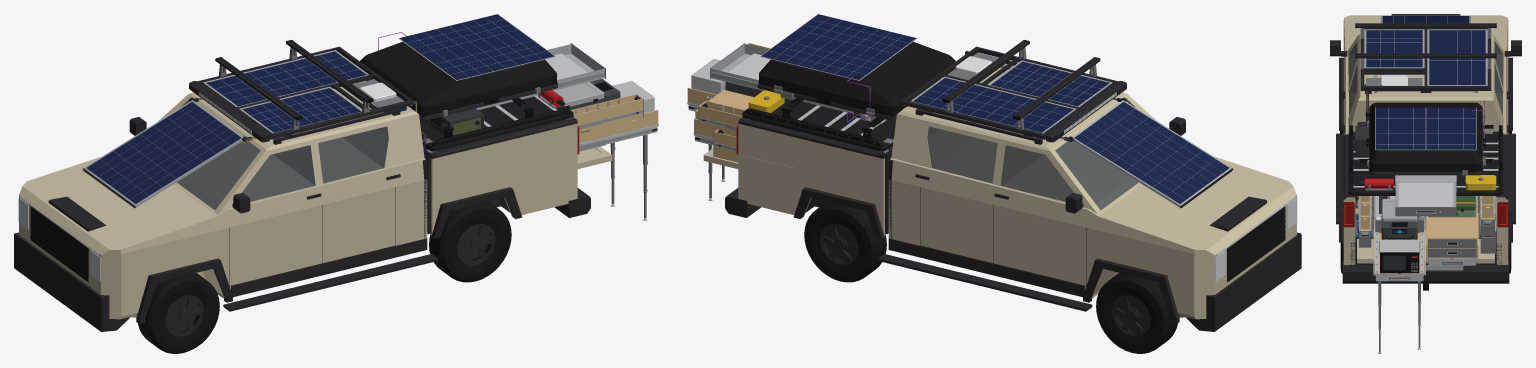
Rendered from fitout_camp.glb.
The picture shows the model from 3 angles, left to right: view 1: azimuth 30°, elevation 25°; view 2: azimuth 150°, elevation 25°; view 3: azimuth 270°, elevation 25°; orthographic projection. The views are drawn at different scales.
Visible parts, largest first — view 1: vehicle__cab_body, vehicle__cab_body_trim, vehicle__tub_skin_passenger, vehicle__cab_glass, solar__visor_panel, tent__tent_shell, vehicle__wheel_430_-1, vehicle__wheel_-2840_-1, solar__roof_solar_190w, solar__tent_solar_1, solar__tent_solar_2, solar__roof_solar_130w (+23 smaller); view 2: vehicle__cab_body, vehicle__cab_body_trim, vehicle__tub_skin_driver, vehicle__cab_glass, solar__visor_panel, tent__tent_shell, vehicle__wheel_430_1, vehicle__wheel_-2840_1, solar__roof_solar_190w, solar__tent_solar_1, solar__tent_solar_2, lid__load_lid (+23 smaller); view 3: vehicle__cab_body, tent__tent_shell, vehicle__cab_body_trim, solar__roof_solar_190w, vehicle__rear_bumper, solar__tent_solar_1, solar__tent_solar_2, lid__load_lid, solar__roof_solar_130w, lid_cargo__uts_table_folded, payload__drawer_module, vehicle__cab_glass (+54 smaller).
Boxes of the visible parts, x1=… form: vehicle__cab_body: x1=19, y1=81, x2=427, y2=319; vehicle__cab_body_trim: x1=14, y1=117, x2=522, y2=331; vehicle__tub_skin_passenger: x1=431, y1=123, x2=577, y2=235; vehicle__cab_glass: x1=177, y1=99, x2=388, y2=209; solar__visor_panel: x1=86, y1=102, x2=241, y2=203; tent__tent_shell: x1=360, y1=41, x2=556, y2=117; vehicle__wheel_430_-1: x1=429, y1=201, x2=511, y2=282; vehicle__wheel_-2840_-1: x1=138, y1=273, x2=219, y2=353; solar__roof_solar_190w: x1=206, y1=51, x2=366, y2=106; solar__tent_solar_1: x1=428, y1=35, x2=554, y2=79; solar__tent_solar_2: x1=400, y1=14, x2=525, y2=58; solar__roof_solar_130w: x1=242, y1=88, x2=360, y2=132; vehicle__cab_body: x1=888, y1=63, x2=1296, y2=319; vehicle__cab_body_trim: x1=793, y1=117, x2=1301, y2=331; vehicle__tub_skin_driver: x1=738, y1=123, x2=884, y2=235; vehicle__cab_glass: x1=927, y1=100, x2=1138, y2=209; solar__visor_panel: x1=1074, y1=102, x2=1228, y2=203; tent__tent_shell: x1=759, y1=41, x2=955, y2=117; vehicle__wheel_430_1: x1=804, y1=201, x2=886, y2=282; vehicle__wheel_-2840_1: x1=1096, y1=273, x2=1177, y2=353; solar__roof_solar_190w: x1=913, y1=78, x2=1073, y2=132; solar__tent_solar_1: x1=790, y1=14, x2=915, y2=58; solar__tent_solar_2: x1=761, y1=35, x2=887, y2=79; lid__load_lid: x1=742, y1=98, x2=895, y2=151; vehicle__cab_body: x1=1343, y1=15, x2=1508, y2=134; tent__tent_shell: x1=1369, y1=102, x2=1482, y2=172; vehicle__cab_body_trim: x1=1330, y1=14, x2=1521, y2=242; solar__roof_solar_190w: x1=1429, y1=30, x2=1485, y2=84; vehicle__rear_bumper: x1=1342, y1=261, x2=1509, y2=283; solar__tent_solar_1: x1=1376, y1=107, x2=1425, y2=149; solar__tent_solar_2: x1=1426, y1=107, x2=1475, y2=149; lid__load_lid: x1=1348, y1=131, x2=1503, y2=195; solar__roof_solar_130w: x1=1366, y1=30, x2=1422, y2=67; lid_cargo__uts_table_folded: x1=1399, y1=182, x2=1452, y2=206; payload__drawer_module: x1=1427, y1=217, x2=1477, y2=257; vehicle__cab_glass: x1=1348, y1=41, x2=1503, y2=115.
Size of the model in its own units: 6.39 by 2.15 by 2.13.
